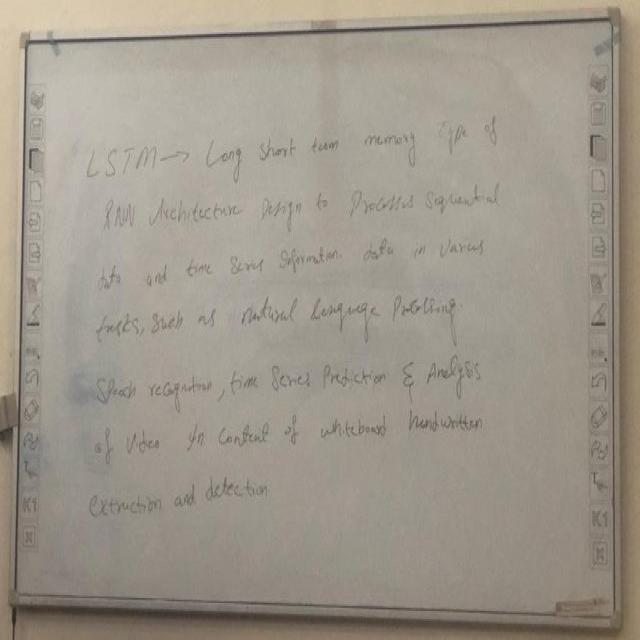White-board: (14, 14, 618, 626)
